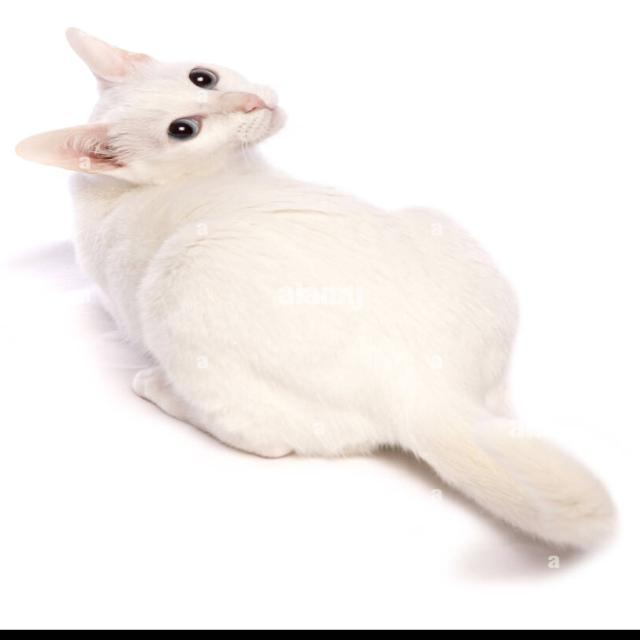Khao Manee: (8, 22, 625, 558)
